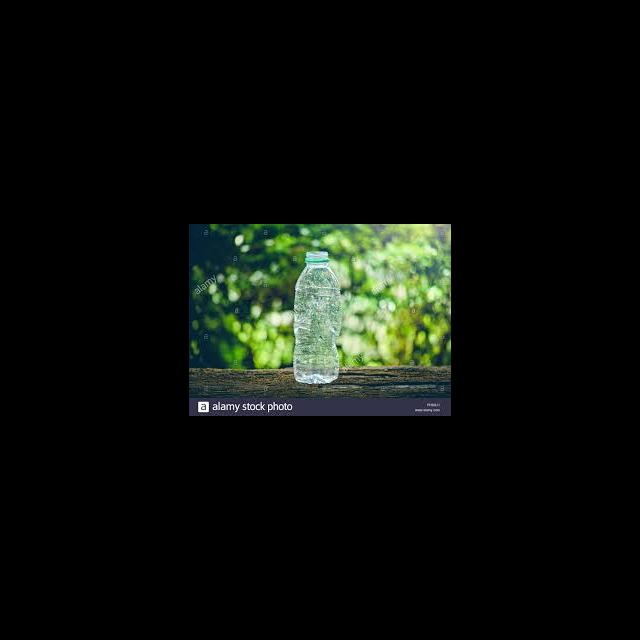plastic: (292, 250, 339, 383)
